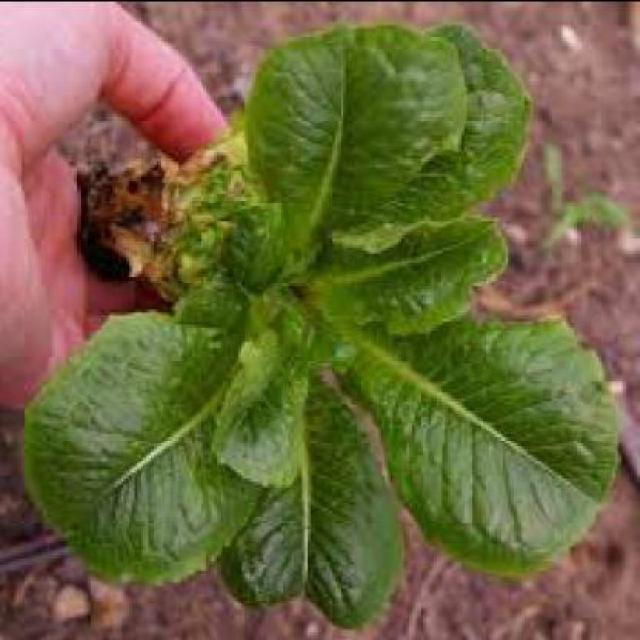BIODEGRADABLE: (25, 21, 626, 625)
